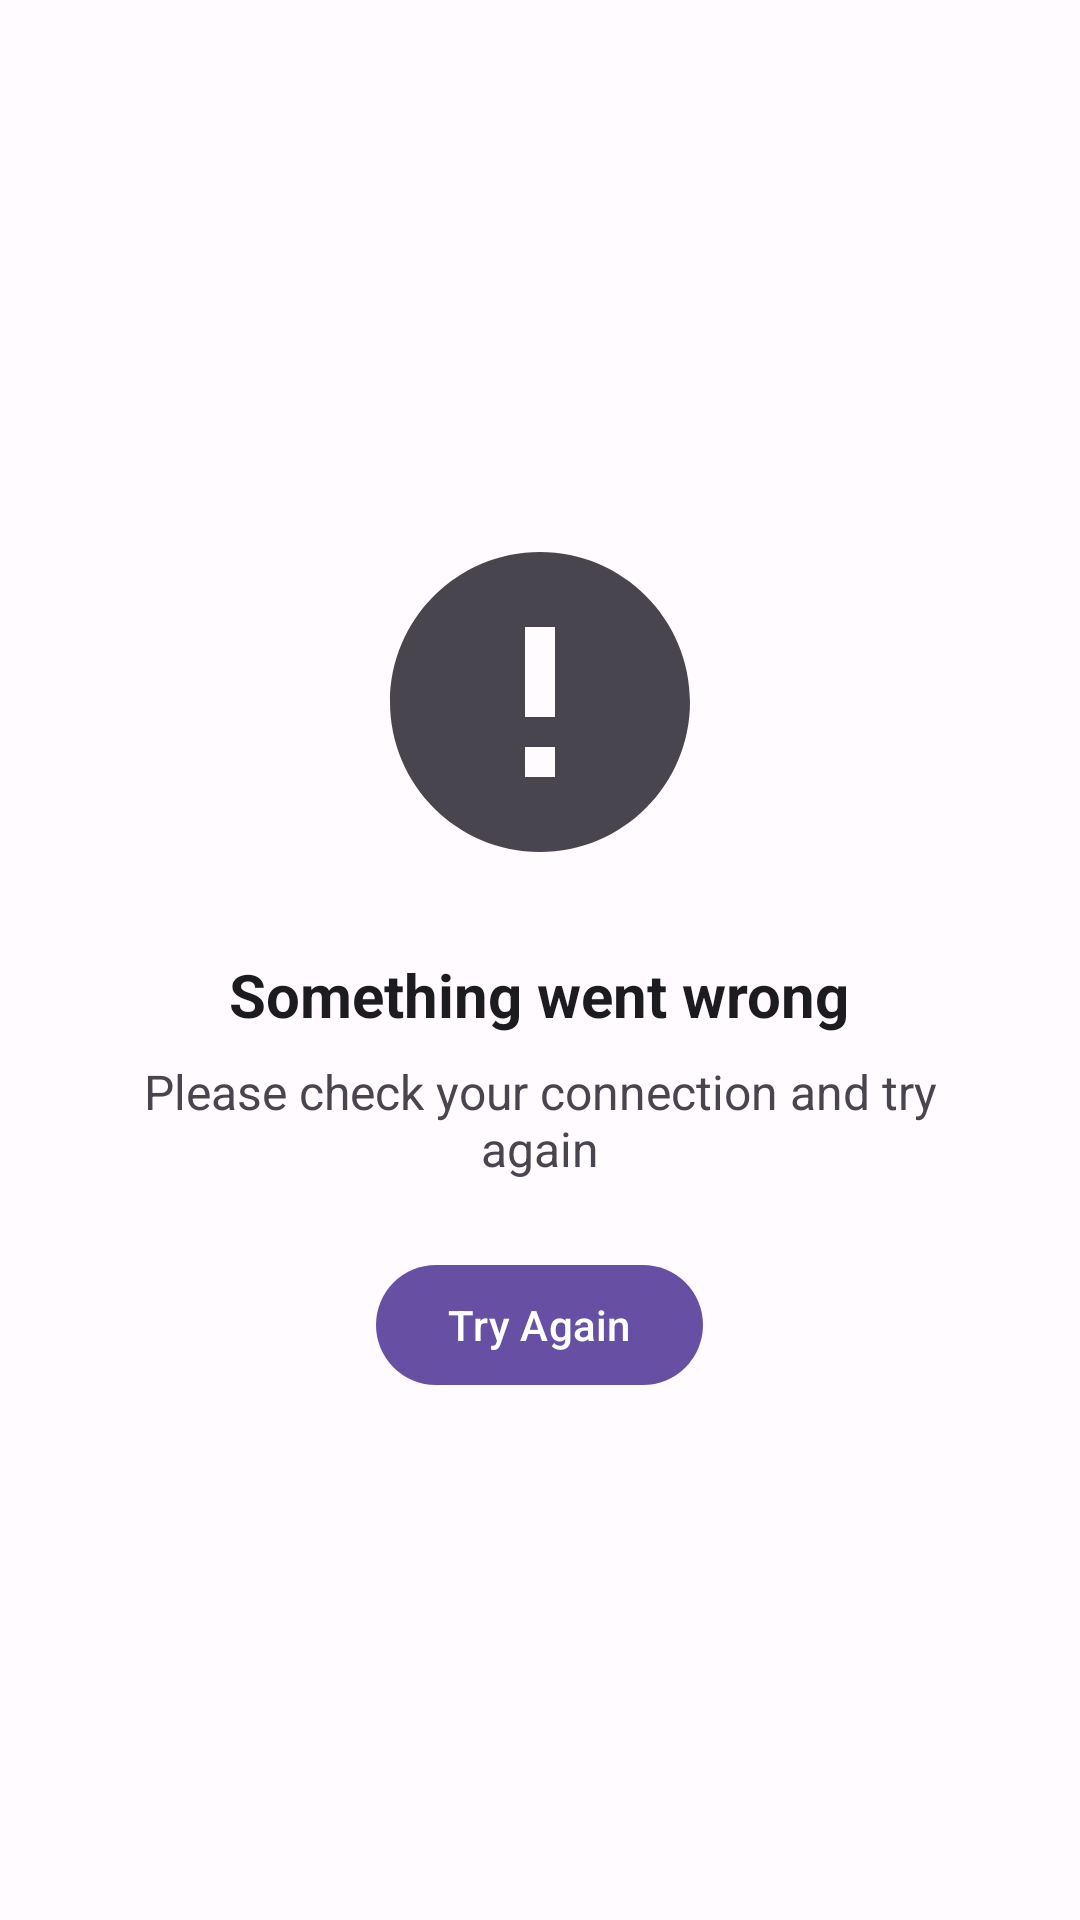

Where to tap for icons on this 1080×1920 app screen, as [x,y]:
Error: [540,702]
